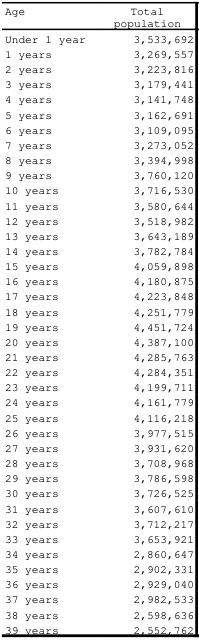table: (3, 3, 192, 636)
table column: (3, 3, 98, 636), (98, 3, 192, 636)
table column header: (3, 3, 192, 30)
table row: (3, 3, 192, 30), (3, 45, 192, 61), (3, 136, 192, 152), (3, 242, 192, 258), (3, 333, 192, 349), (3, 439, 192, 455), (3, 545, 192, 561), (3, 30, 192, 45), (3, 61, 192, 76), (3, 76, 192, 91), (3, 91, 192, 106), (3, 106, 192, 121), (3, 121, 192, 136), (3, 152, 192, 167), (3, 167, 192, 182), (3, 182, 192, 197), (3, 197, 192, 212), (3, 212, 192, 227), (3, 227, 192, 242), (3, 258, 192, 273), (3, 273, 192, 288), (3, 288, 192, 303), (3, 303, 192, 318), (3, 318, 192, 333), (3, 349, 192, 364), (3, 364, 192, 379), (3, 379, 192, 394), (3, 394, 192, 409), (3, 409, 192, 424), (3, 424, 192, 439), (3, 455, 192, 470), (3, 470, 192, 485), (3, 485, 192, 500), (3, 500, 192, 515), (3, 515, 192, 530), (3, 530, 192, 545), (3, 561, 192, 576), (3, 576, 192, 591), (3, 591, 192, 606), (3, 606, 192, 621), (3, 621, 192, 636)
